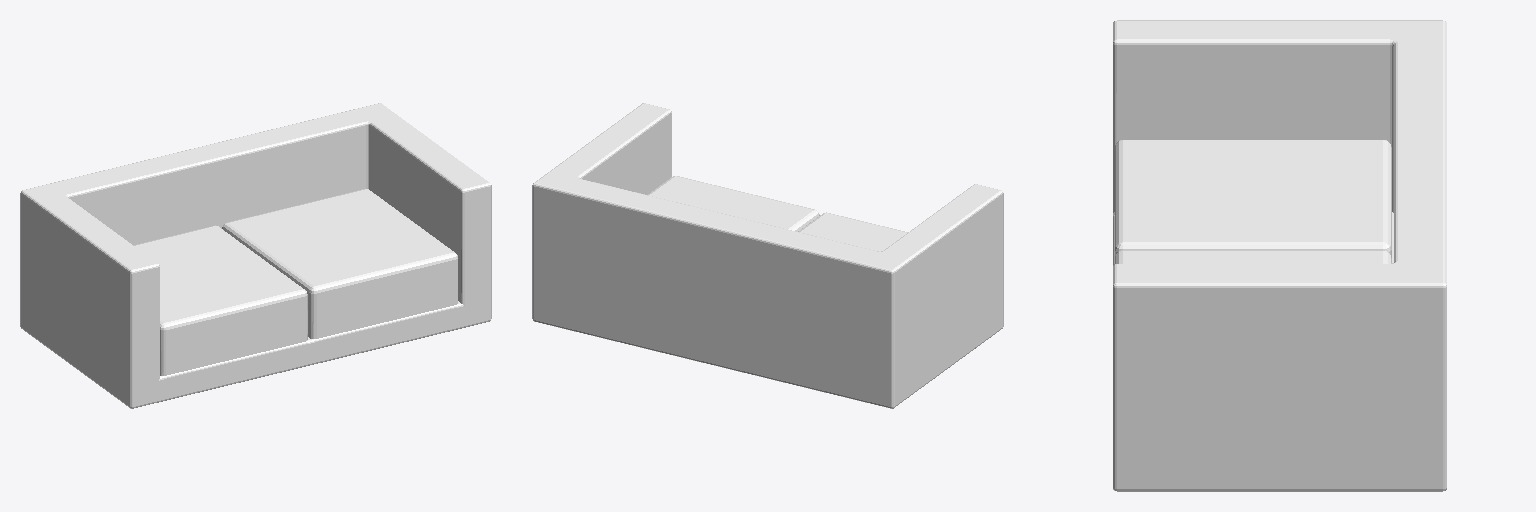
The robot description file, URDF, robot "Sofa_U":
<?xml version="1.0" encoding="utf-8"?>
<!-- This URDF was automatically created by SolidWorks to URDF Exporter! Originally created by [author] ([email redacted]) 
     Commit Version: 1.5.1-0-g916b5db  Build Version: 1.5.7152.31018
     For more information, please see http://wiki.ros.org/sw_urdf_exporter -->
<robot
  name="Sofa_U">
  <link
    name="Sofa_U">
    <inertial>
      <origin
        xyz="8.9951E-10 0.031101 0.20492"
        rpy="0 0 0" />
      <mass
        value="444" />
      <inertia
        ixx="34.103"
        ixy="-1.3593E-07"
        ixz="-3.539E-08"
        iyy="103.94"
        iyz="2.954"
        izz="120.9" />
    </inertial>
    <visual>
      <origin
        xyz="0 0 0"
        rpy="0 0 0" />
      <geometry>
        <mesh
          filename="package://Sofa_U/meshes/Sofa_U.STL" />
      </geometry>
      <material
        name="">
        <color
          rgba="1 1 1 1" />
        <texture
          filename="package://Sofa_U/textures/" />
      </material>
    </visual>
    <collision>
      <origin
        xyz="0 0 0"
        rpy="0 0 0" />
      <geometry>
        <mesh
          filename="package://Sofa_U/meshes/Sofa_U.STL" />
      </geometry>
    </collision>
  </link>
</robot>

--- Render facts (derived) ---
3 views of the same robot in one strip: view 1: azimuth 30°, elevation 25°; view 2: azimuth 150°, elevation 25°; view 3: azimuth 270°, elevation 25° (orthographic).
Model Sofa_U with 1 links and 0 joints (none), rooted at Sofa_U, posed all joints at 0.
Visible links, largest first — view 1: Sofa_U; view 2: Sofa_U; view 3: Sofa_U.
Boxes of the visible links, x1=… form: Sofa_U: x1=20, y1=103, x2=491, y2=408; Sofa_U: x1=532, y1=103, x2=1003, y2=408; Sofa_U: x1=1113, y1=20, x2=1446, y2=491.
Size in the robot's own frame: 1.5 by 0.8 by 0.55 metres.
Meshes: 1 distinct files referenced, 1 mesh visuals loaded (1 binary STL).